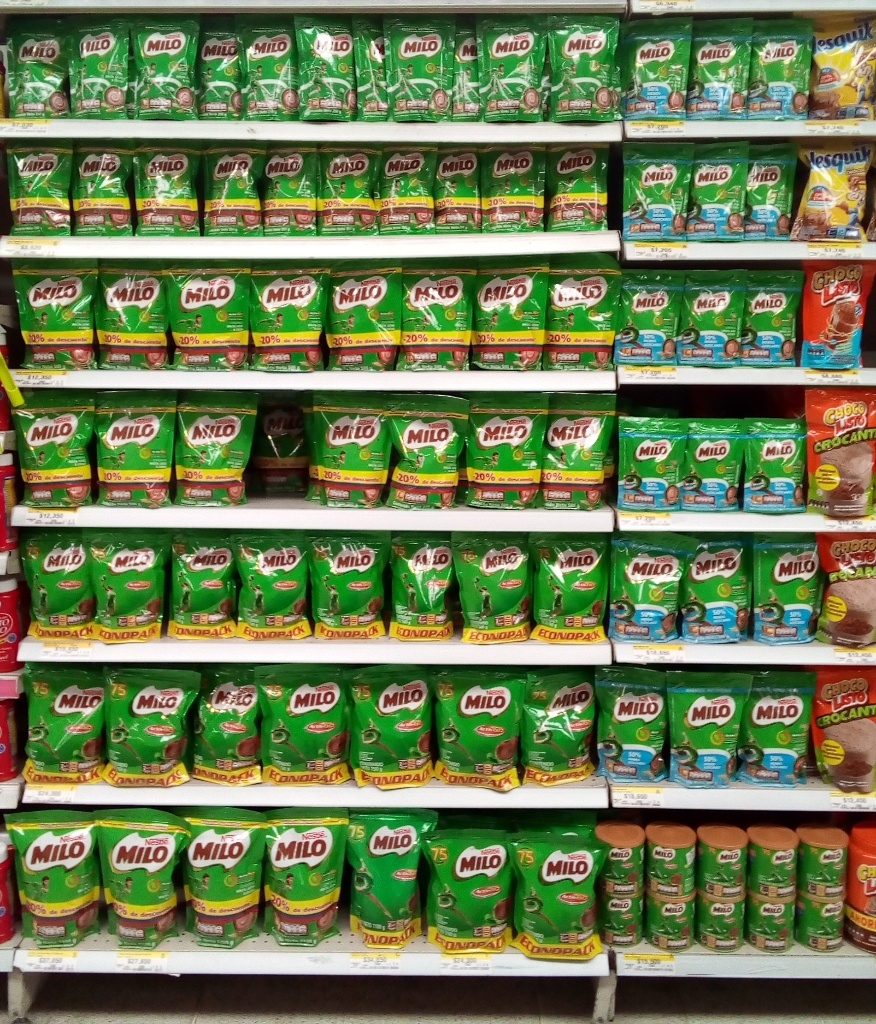COL0170102DYP25000: (808, 647, 873, 796)
COL0170103TRR00100: (846, 808, 875, 958)
COL0170203DYP25000: (6, 23, 70, 120)
COL0170203DYP50000: (11, 255, 97, 367)
COL0170203LAT40000: (800, 820, 852, 895)
COL0170205DYP20000: (737, 663, 816, 784)
COL0170303DYP20000: (800, 143, 869, 246)
